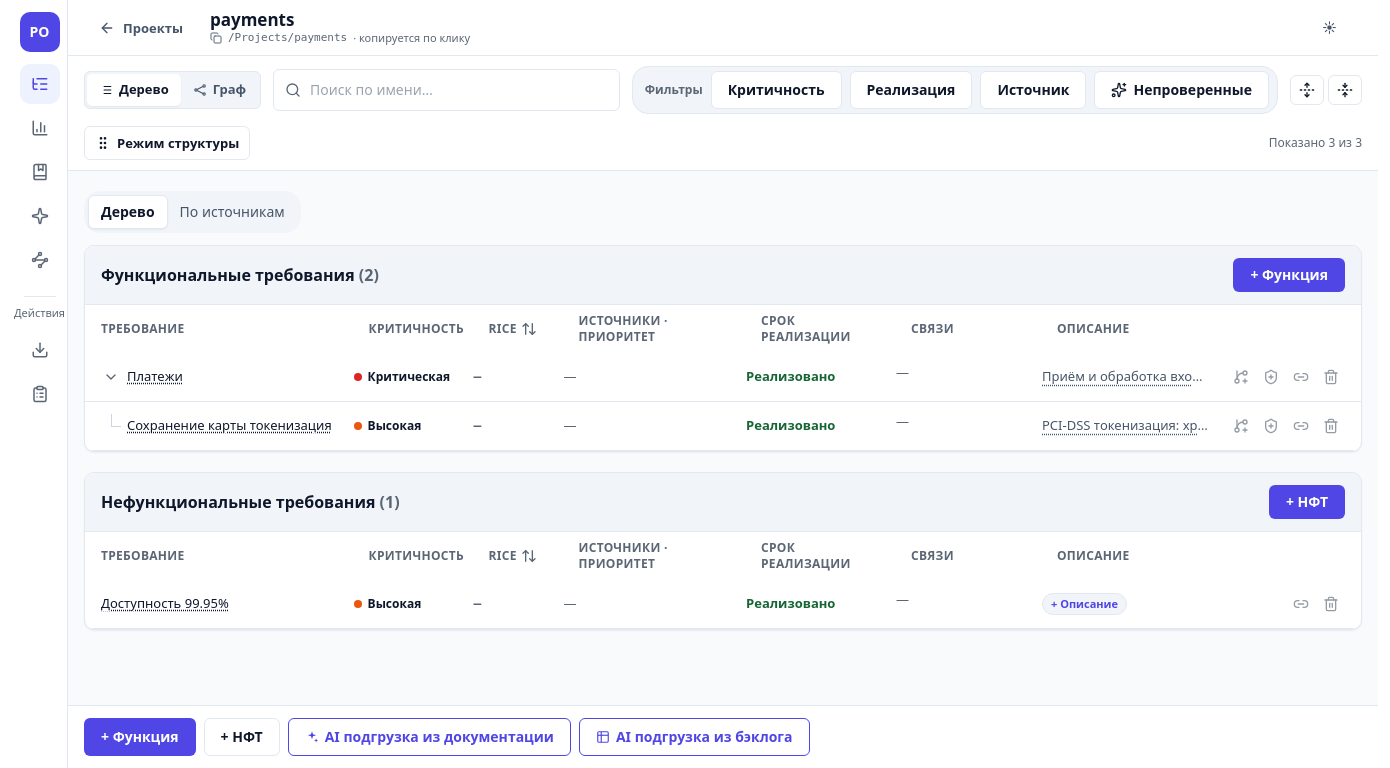
Test: Main page (E11 integration) › task23: chevron collapses and re-expands a branch in default expand-all mode
This screenshot has width=1390, height=768.
Expected: the row with test id "tree-row-token" is shown, [85, 402, 1361, 450]
Click the button with test id "toggle-node" at [111, 377], box [101, 367, 121, 387]
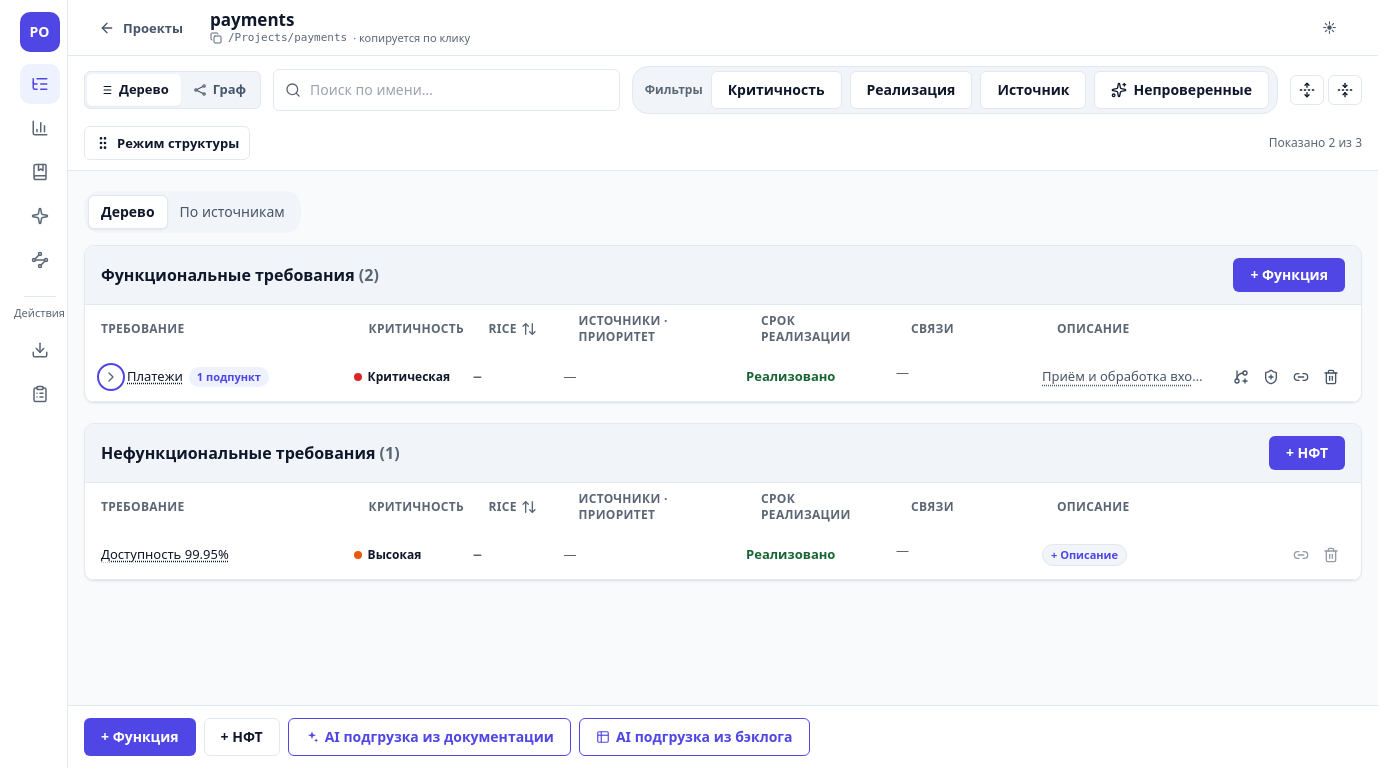
Expected: the row with test id "tree-row-pay" is shown, [85, 353, 1361, 402]
Now the row with test id "tree-row-token" is gone
Now the button with test id "toggle-node" is collapsed
# Second click restores the branch.
Click the button with test id "toggle-node" at [111, 377], box [101, 367, 121, 387]
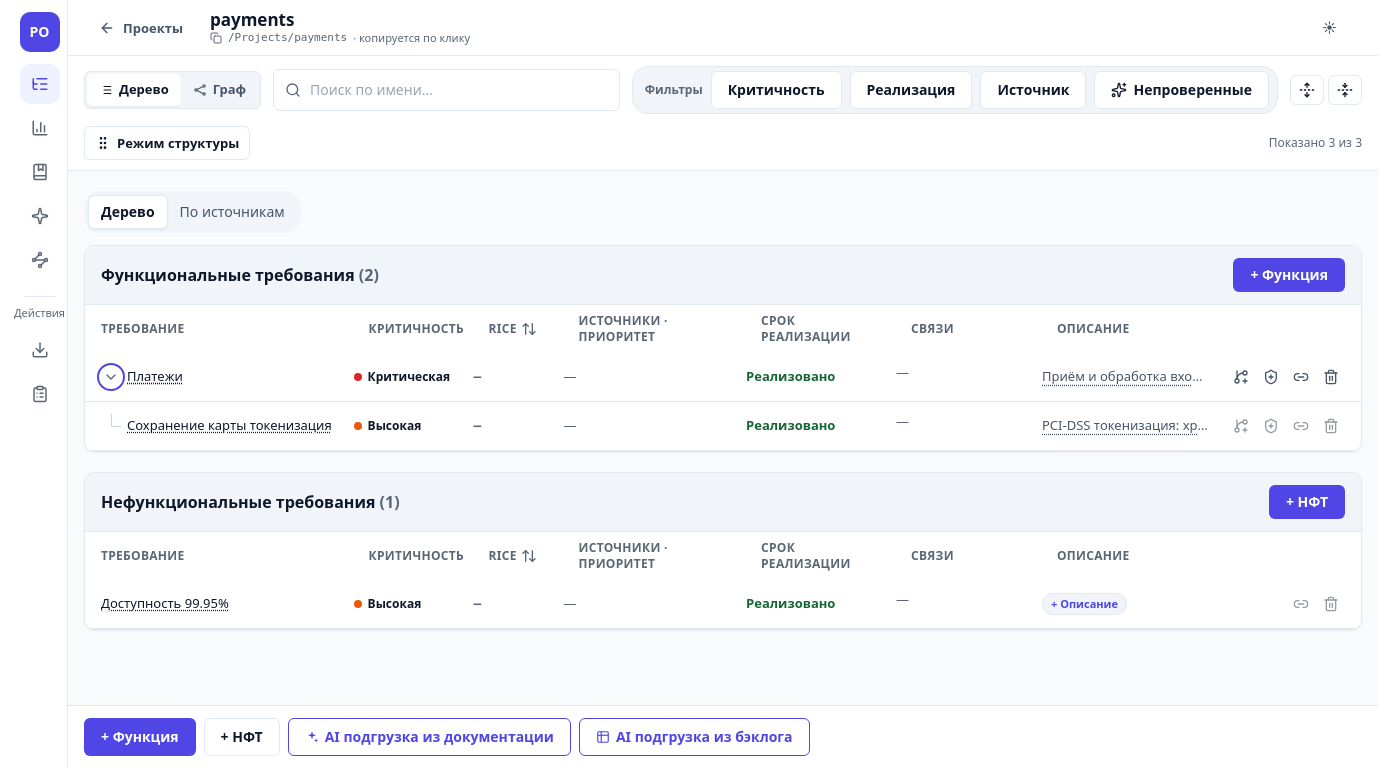
Now the row with test id "tree-row-token" is shown, box [85, 402, 1361, 450]
